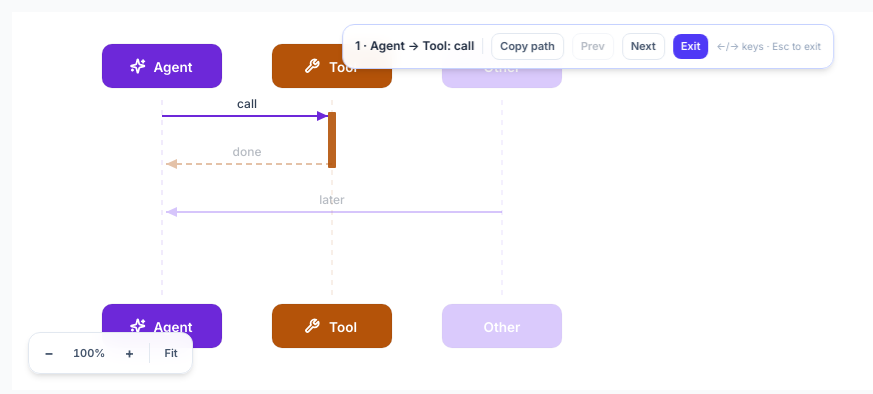
Scenario: Sequence walk highlight › highlights the current row, both headers, and the active bar, and dims the rest
Expected: the text with test id "walk-through-caption" reads "1 · Agent → Tool: call", x1=355 y1=38 x2=474 y2=53
Click the button with test id "walk-through-next": x=643, y=46 x1=622 y1=33 x2=665 y2=60
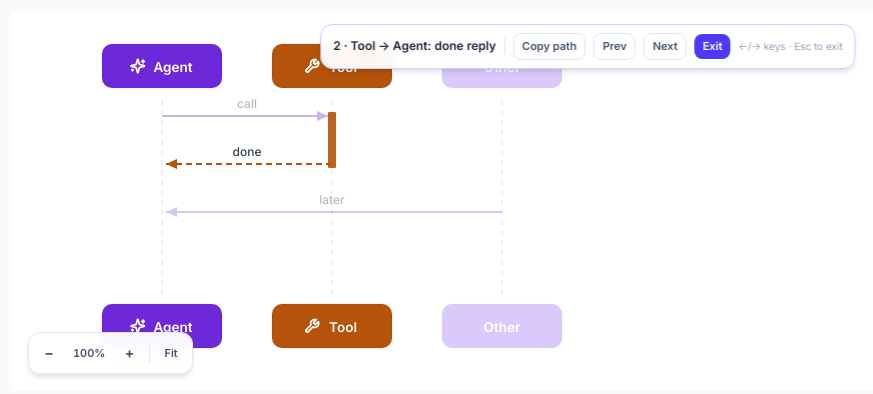
Click the button with test id "walk-through-next": x=665, y=46 x1=644 y1=33 x2=687 y2=60
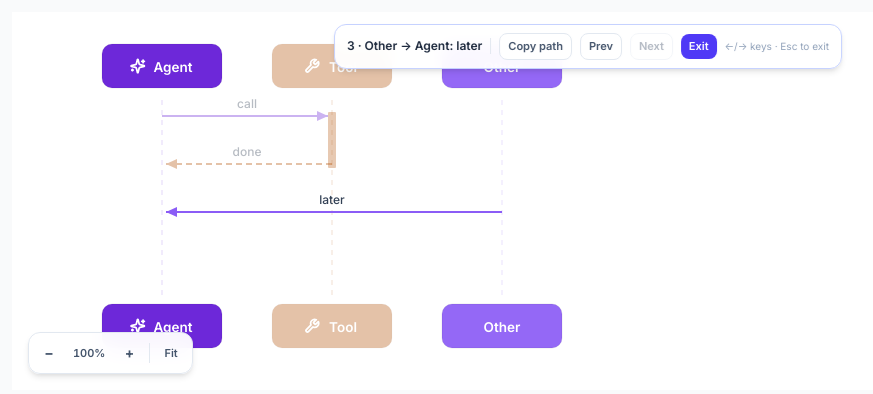
Expected: the text with test id "walk-through-caption" reads "3 · Other → Agent: later", x1=347 y1=38 x2=482 y2=53
